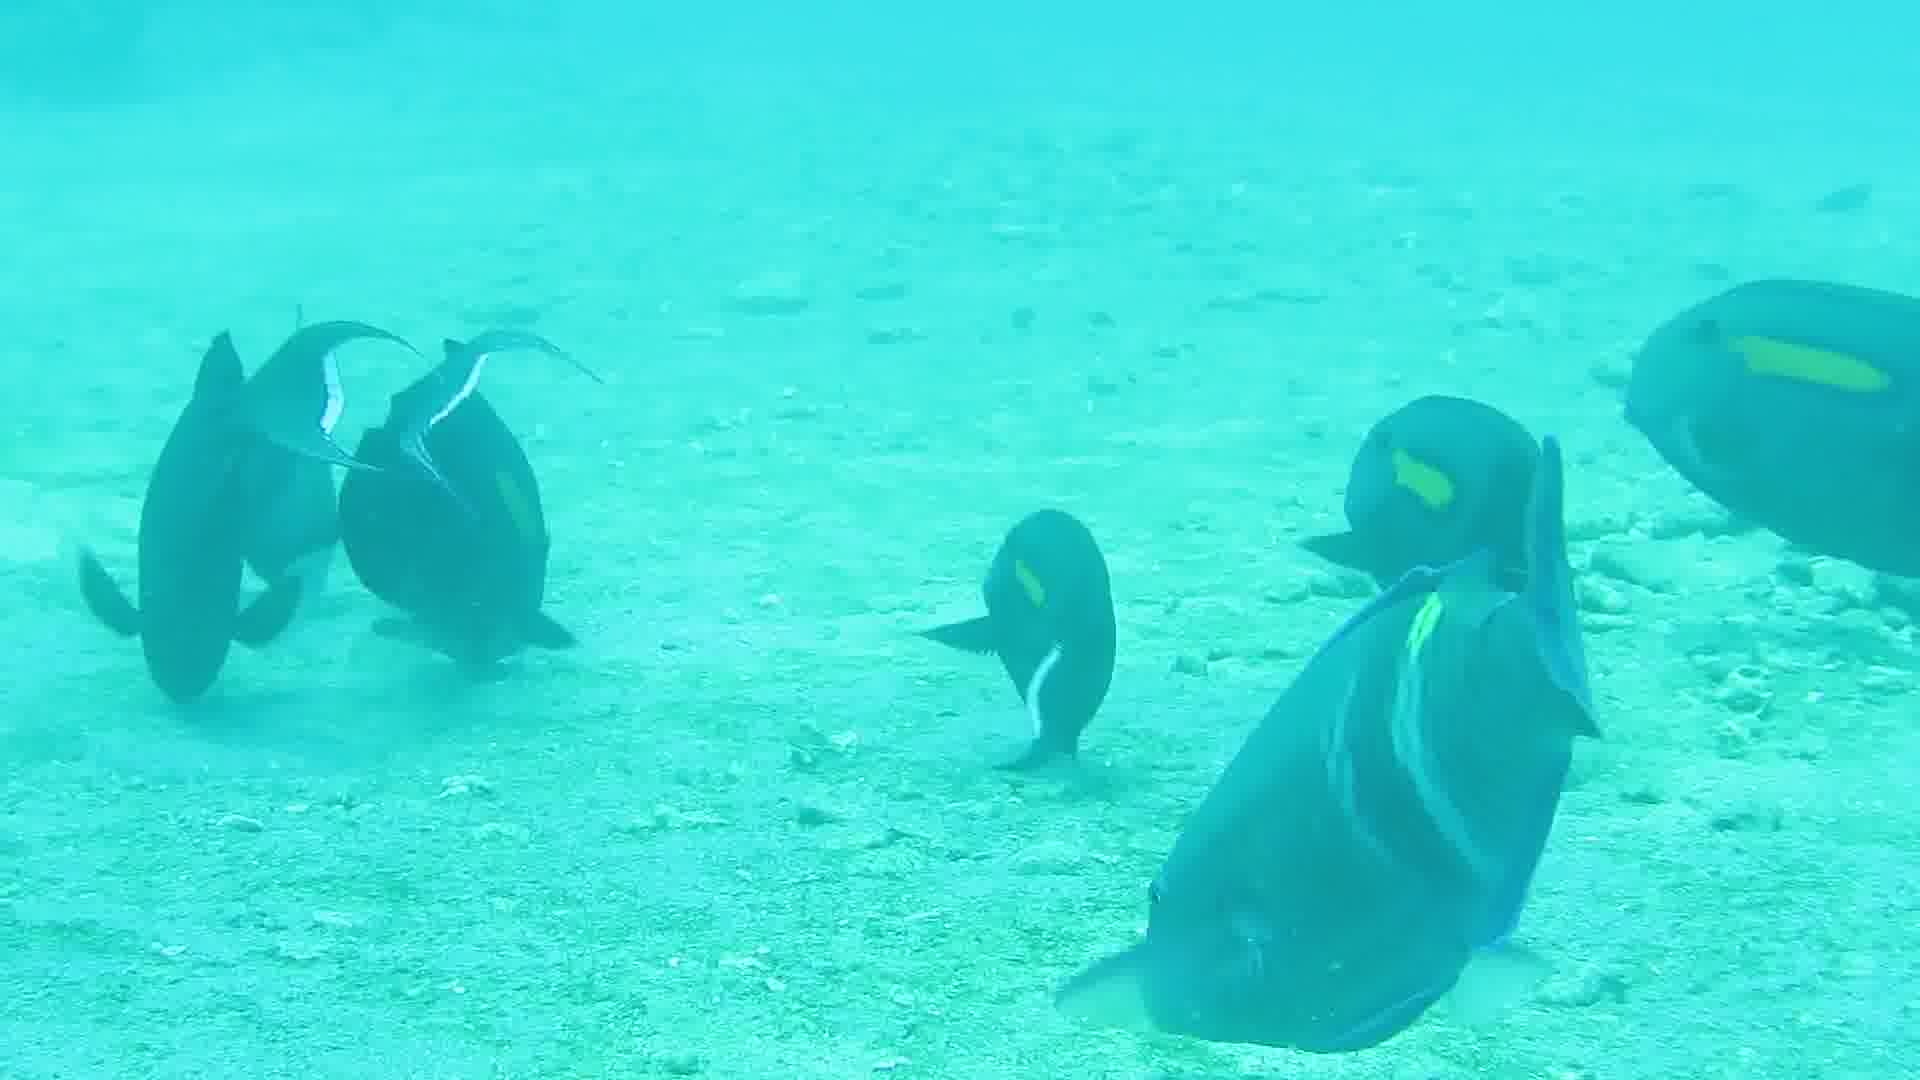Acanthurus olivaceus: (1124, 450, 1629, 1080), (3, 215, 359, 771), (1618, 141, 1920, 637), (380, 228, 636, 741), (906, 363, 1160, 876)
